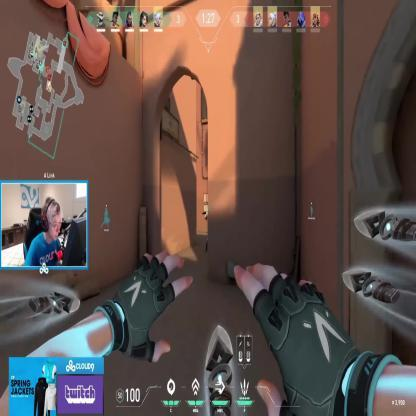enemy: (202, 199, 216, 250)
